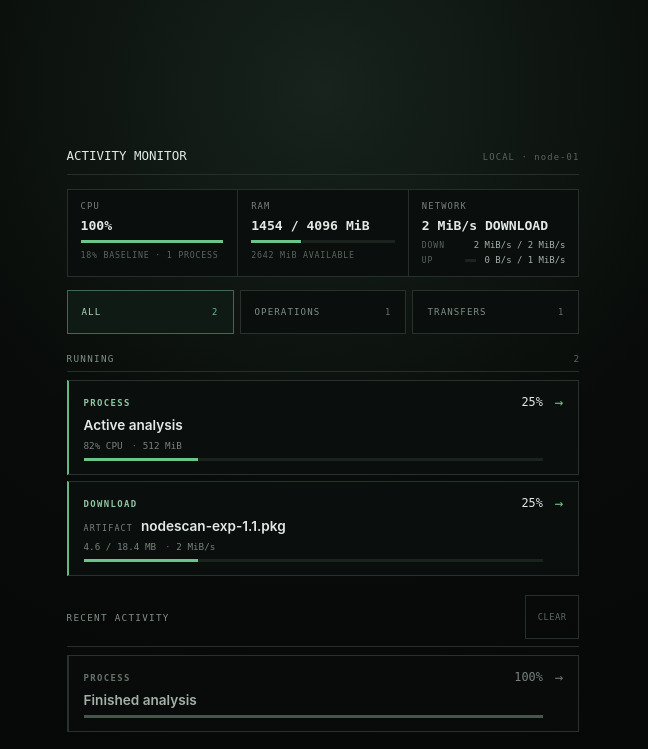
Scenario: Activity Monitor: Recent Activity › offers no history controls where no history is represented
This screenshot has width=648, height=749.
Click the button "TRANSFERS 1": [496, 312] box x1=412 y1=290 x2=580 y2=334
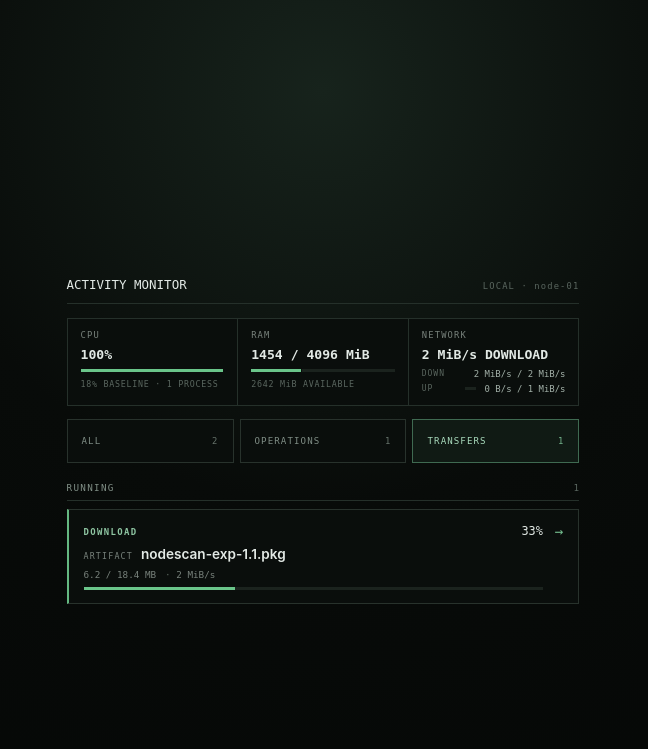
expect the text "RECENT ACTIVITY" is gone: met
